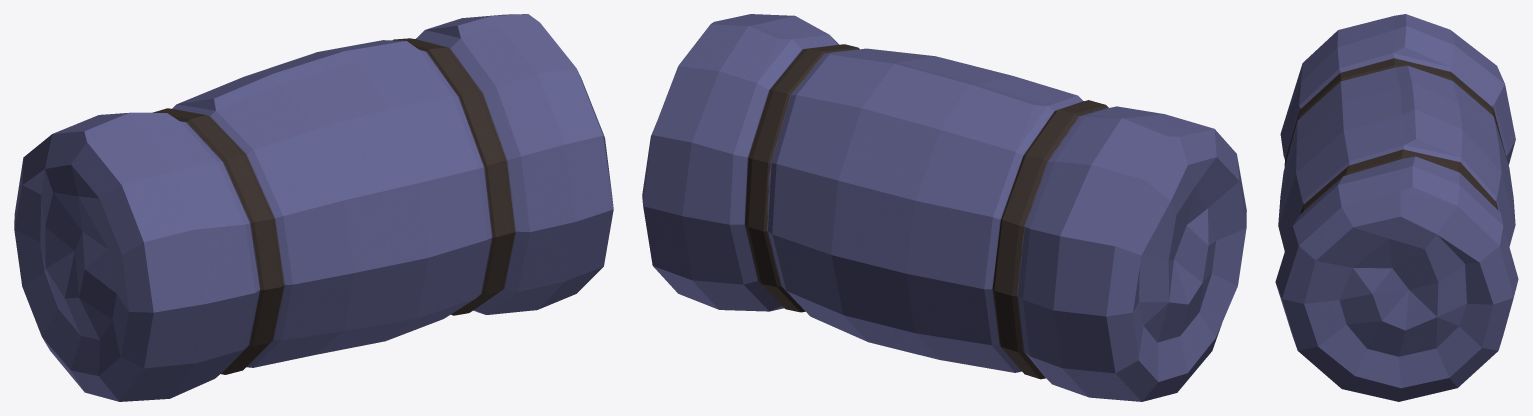
Rendered from SleepingBagRoll.fbx.
3 views of the same model, side by side, from view 1: azimuth 30°, elevation 25°; view 2: azimuth 150°, elevation 25°; view 3: azimuth 270°, elevation 25° (orthographic). The views are drawn at different scales.
Visible parts, largest first — view 1: SleepingBagRoll; view 2: SleepingBagRoll; view 3: SleepingBagRoll.
Part boxes in pixels (bbox=[...]): SleepingBagRoll: bbox=[14, 14, 613, 401]; SleepingBagRoll: bbox=[642, 14, 1246, 401]; SleepingBagRoll: bbox=[1275, 14, 1518, 401].
Size of the model in its own units: 109 by 58.82 by 57.91.
